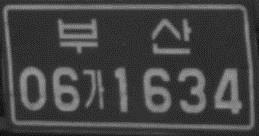0: (18, 64, 48, 112)
1: (112, 66, 131, 113)
3: (176, 66, 206, 115)
4: (210, 65, 244, 116)
6: (141, 65, 173, 115), (51, 64, 80, 111)
가: (82, 67, 107, 111)
부산_D: (55, 15, 192, 57)
